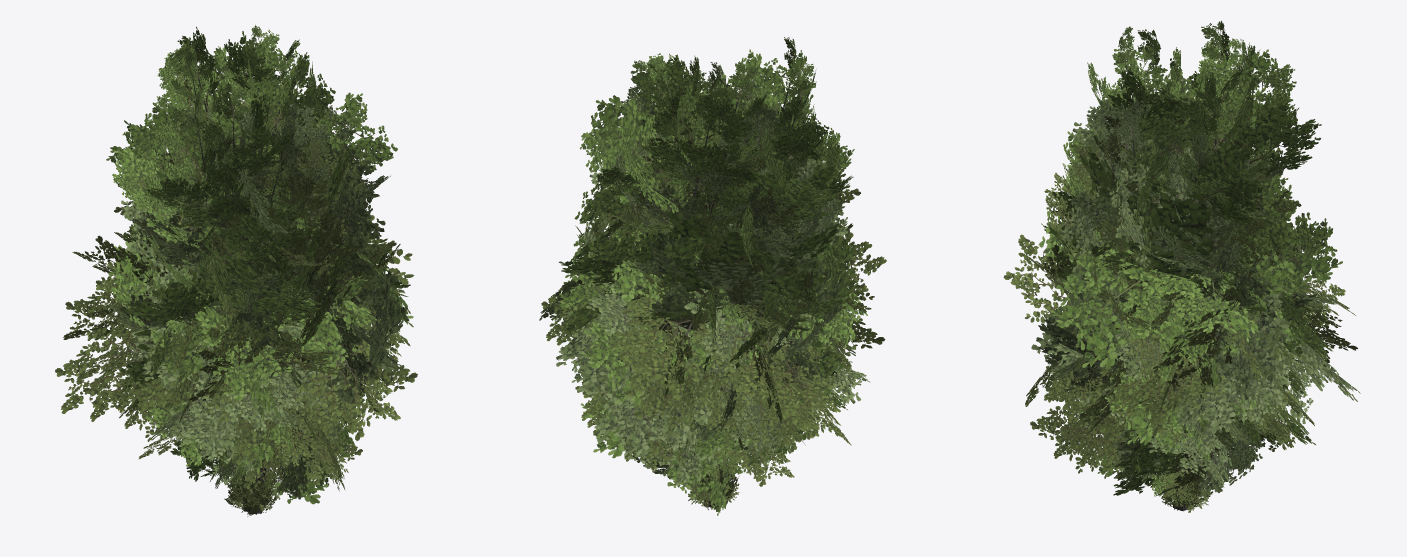
The model's file is shapespark-plants.glb.
3 views of the same model, side by side, from view 1: azimuth 30°, elevation 25°; view 2: azimuth 150°, elevation 25°; view 3: azimuth 270°, elevation 25° (orthographic).
Parts seen in each view (by area): view 1: Tree-03-2, Tree-03-1, Tree-01-2, Tree-02-2, Tree-01-1, Tree-02-1, Tree-01-3, Tree-02-3, Tree-03-3, Tree-03-4, Tree-01-4, Tree-02-4 (+2 smaller); view 2: Tree-03-2, Tree-03-1, Tree-01-2, Tree-02-1, Tree-02-2, Tree-01-1, Tree-03-3, Tree-01-3, Tree-02-3, Tree-01-4, Tree-03-4, Tree-02-4 (+1 smaller); view 3: Tree-03-2, Tree-03-1, Tree-02-2, Tree-01-2, Tree-02-1, Tree-01-3, Tree-01-1, Tree-03-4, Tree-02-4, Tree-03-3, Tree-01-4, Tree-02-3 (+2 smaller).
Part boxes in pixels (x1,y1,x2,y2): Tree-03-2: (106, 26, 413, 510); Tree-03-1: (122, 24, 390, 511); Tree-01-2: (55, 100, 410, 513); Tree-02-2: (126, 74, 407, 456); Tree-01-1: (83, 100, 380, 485); Tree-02-1: (107, 101, 374, 440); Tree-01-3: (76, 102, 417, 513); Tree-02-3: (119, 178, 401, 514); Tree-03-3: (119, 114, 413, 513); Tree-03-4: (170, 203, 364, 504); Tree-01-4: (139, 251, 362, 493); Tree-02-4: (181, 227, 347, 499); Tree-03-2: (558, 53, 867, 507); Tree-03-1: (571, 37, 858, 507); Tree-01-2: (553, 87, 886, 480); Tree-02-1: (539, 120, 870, 457); Tree-02-2: (577, 62, 851, 506); Tree-01-1: (610, 85, 844, 504); Tree-03-3: (580, 131, 845, 515); Tree-01-3: (541, 87, 872, 507); Tree-02-3: (579, 156, 850, 505); Tree-01-4: (593, 399, 794, 486); Tree-03-4: (684, 219, 814, 480); Tree-02-4: (633, 286, 793, 487); Tree-03-2: (1038, 29, 1342, 509); Tree-03-1: (1041, 20, 1315, 506); Tree-02-2: (1031, 78, 1316, 486); Tree-01-2: (1003, 93, 1357, 473); Tree-02-1: (1100, 101, 1360, 458); Tree-01-3: (1027, 108, 1343, 507); Tree-01-1: (1038, 92, 1345, 509); Tree-03-4: (1078, 161, 1260, 496); Tree-02-4: (1096, 295, 1289, 496); Tree-03-3: (1080, 112, 1315, 510); Tree-01-4: (1117, 291, 1287, 504); Tree-02-3: (1047, 156, 1293, 508).
Size of the model in its own units: 7.27 by 9.14 by 7.32.
2 materials, 2 textured.
